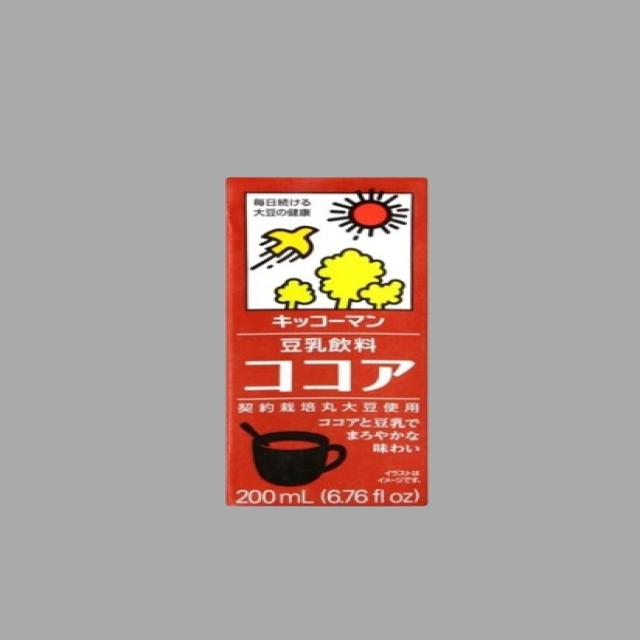Aluminium Foil: (215, 168, 434, 510)
